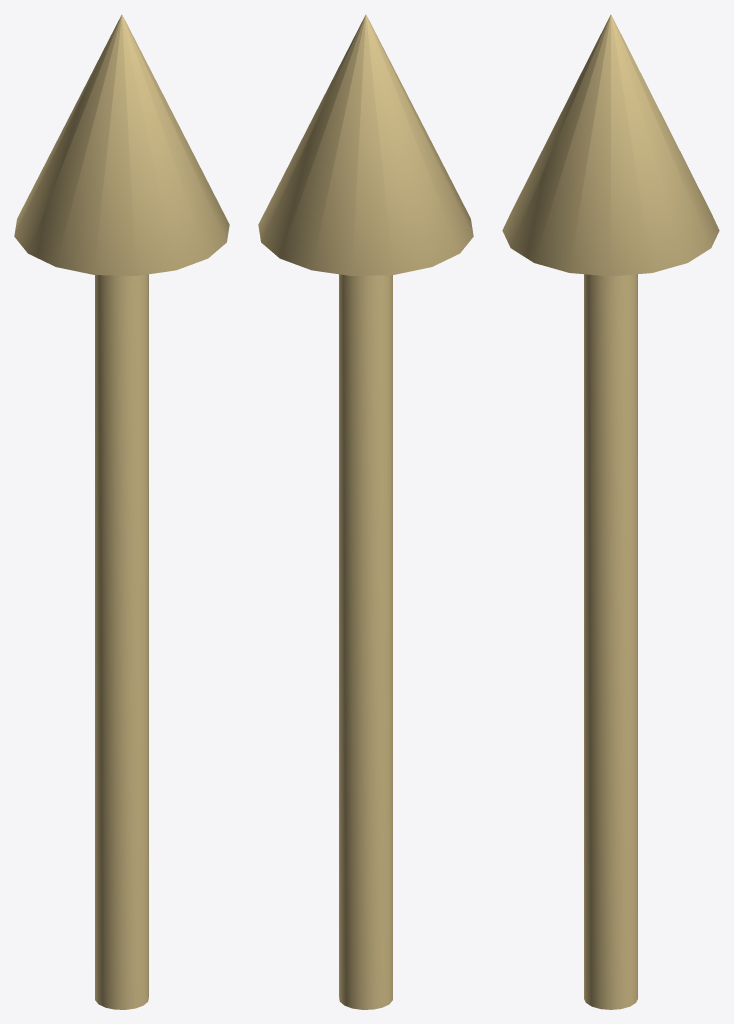
The model's file is arrow-vector.glb.
3 renders of one model, left to right at view 1: azimuth 30°, elevation 25°; view 2: azimuth 150°, elevation 25°; view 3: azimuth 270°, elevation 25°, orthographic.
Visible parts, largest first — view 1: vector_shaft, vector_head; view 2: vector_shaft, vector_head; view 3: vector_shaft, vector_head.
Part boxes in pixels (x1,y1,x2,y2): vector_shaft: (95,274,148,1009); vector_head: (14,14,229,275); vector_shaft: (339,274,392,1009); vector_head: (258,14,473,275); vector_shaft: (584,274,637,1009); vector_head: (502,14,719,276).
Size of the model in its own units: 0.2 by 1 by 0.2.
